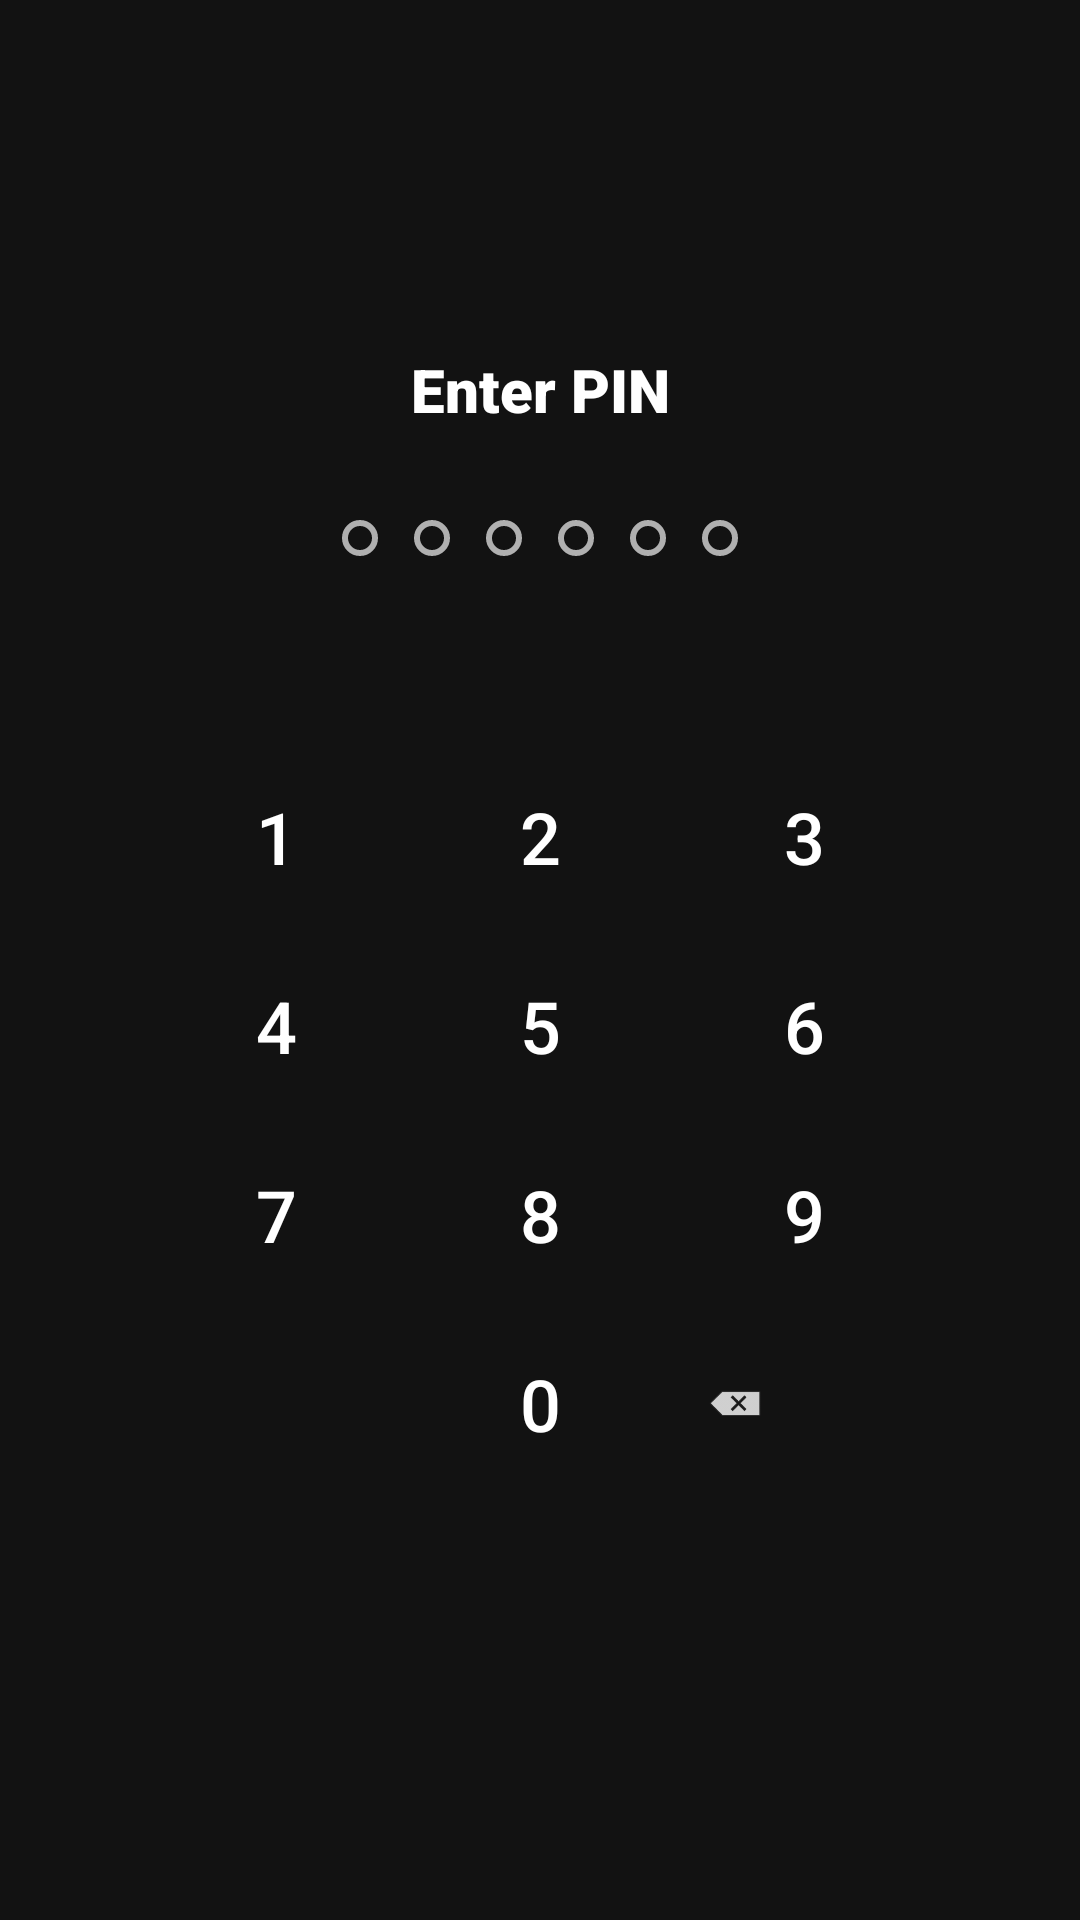

Point at icon controls on the screen. Image size 1080w x 1920h, points as (x,y).
pin dot empty: (360,538), (432,538), (504,538), (576,538), (648,538), (720,538)
